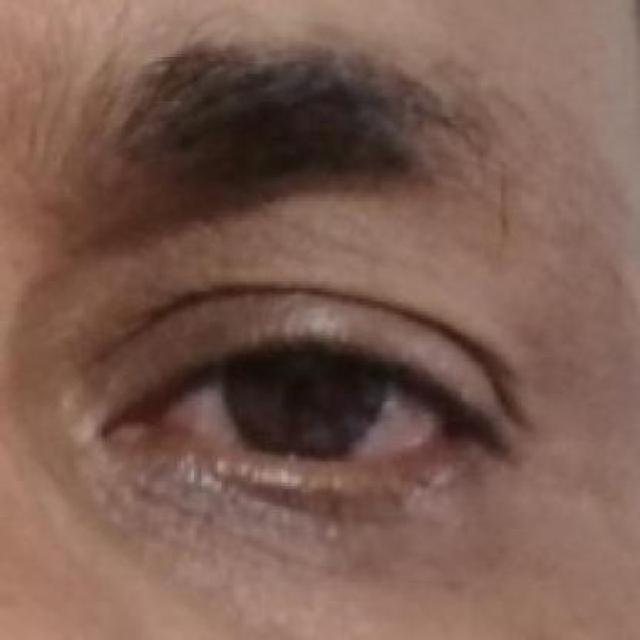awake: (138, 288, 493, 500)
